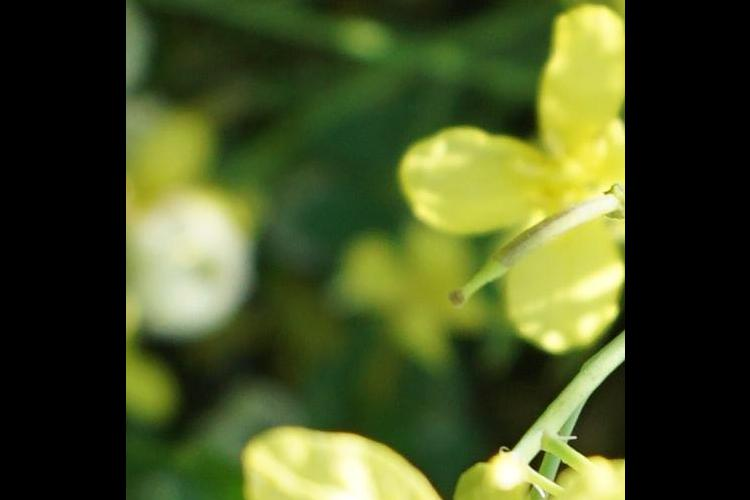pod: (409, 176, 610, 299)
yellow: (416, 1, 606, 341)
